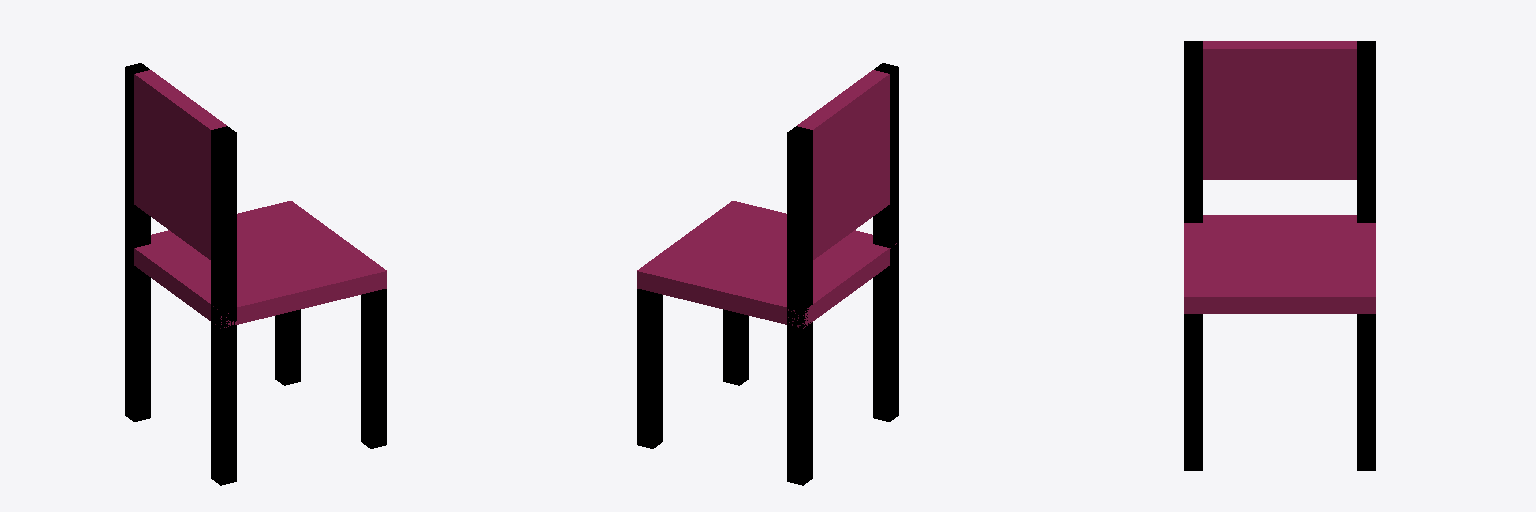
The model's file is chair2_1Unit.obj.
3 views of the same model, side by side, from view 1: azimuth 30°, elevation 25°; view 2: azimuth 150°, elevation 25°; view 3: azimuth 270°, elevation 25° (orthographic).
Visible parts, largest first — view 1: chair1Unit; view 2: chair1Unit; view 3: chair1Unit.
Part boxes in pixels (x1,y1,x2,y2): chair1Unit: (125,63,386,485); chair1Unit: (637,63,898,485); chair1Unit: (1184,41,1375,470).
Bounding box in the file's own units: 1 × 2 × 1.